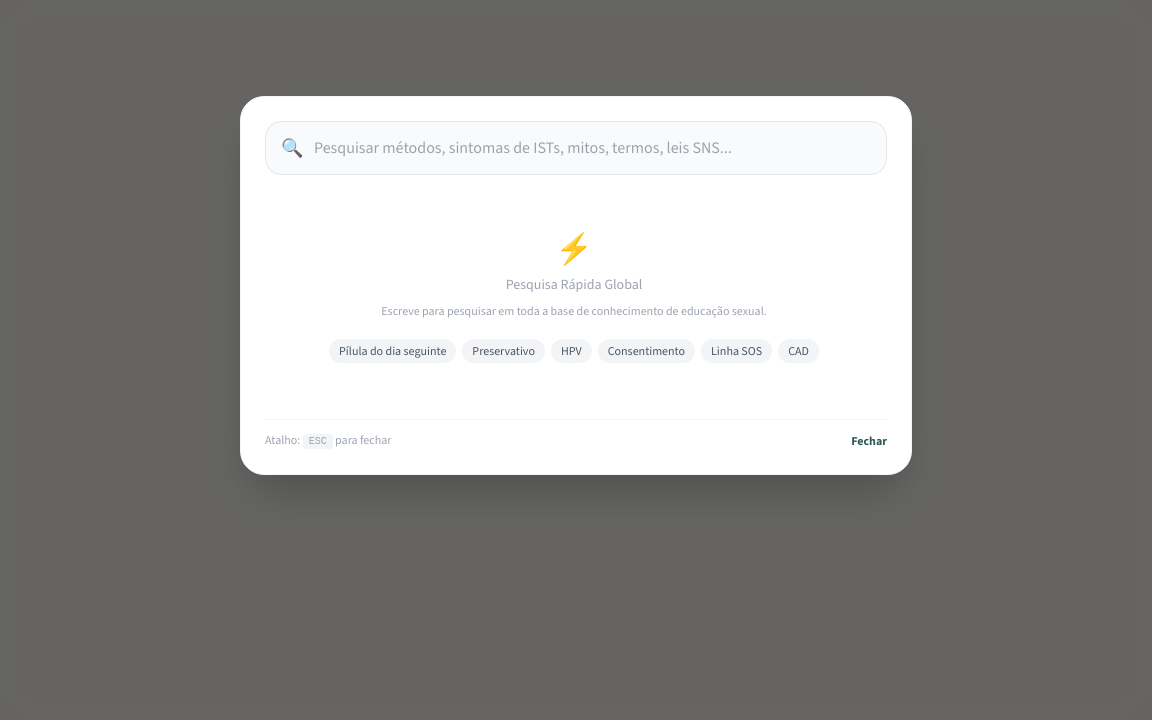
GlobalSearchModal › shows suggestion chips and populates input on click
Step 1. Click the button "Pílula do dia seguinte" → (393, 351), box left=329, top=339, right=456, bottom=363
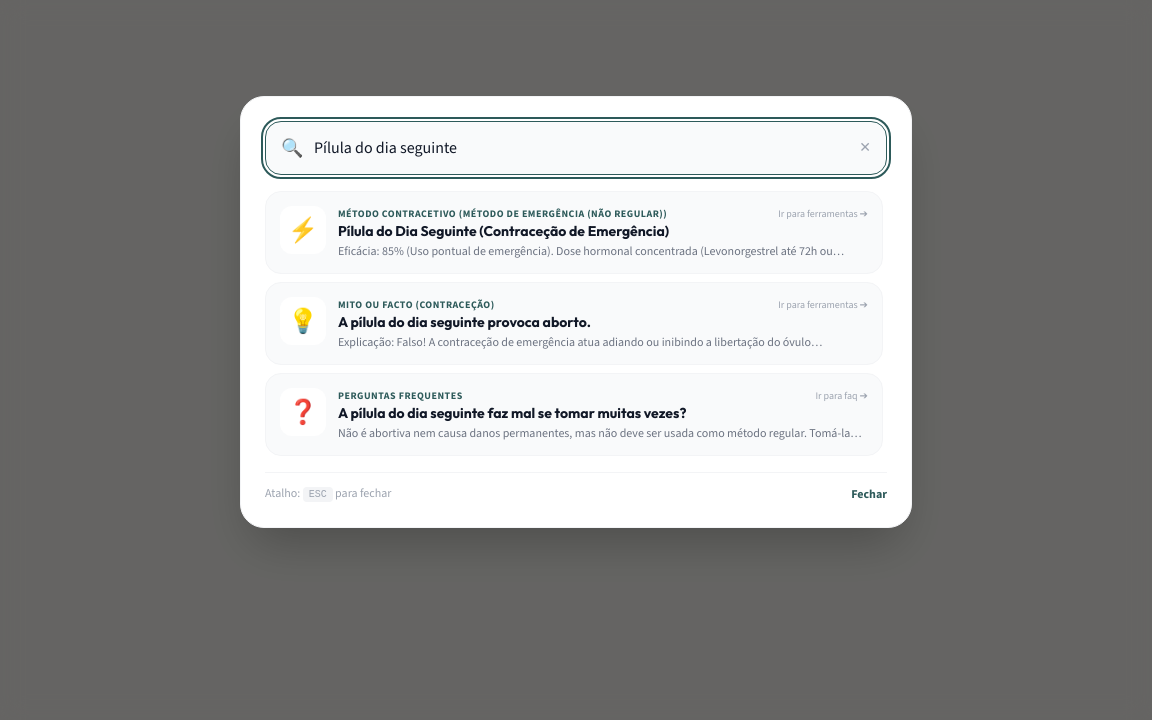
Now the field with placeholder "Pesquisar" holds "Pílula do dia seguinte", box left=265, top=121, right=887, bottom=175
